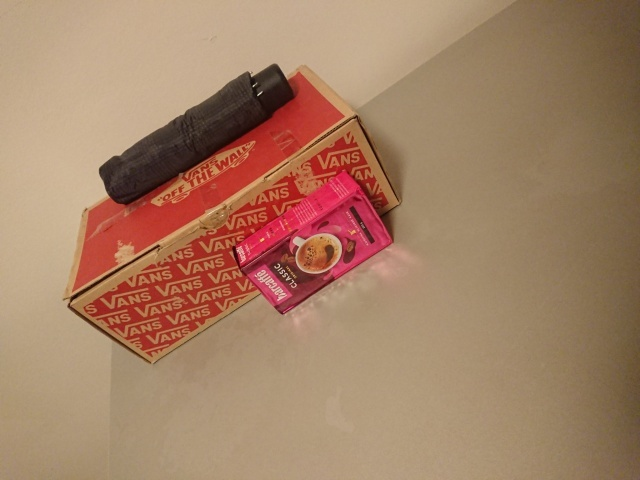Barcaffe Classic Original 225g: (230, 168, 397, 318)
